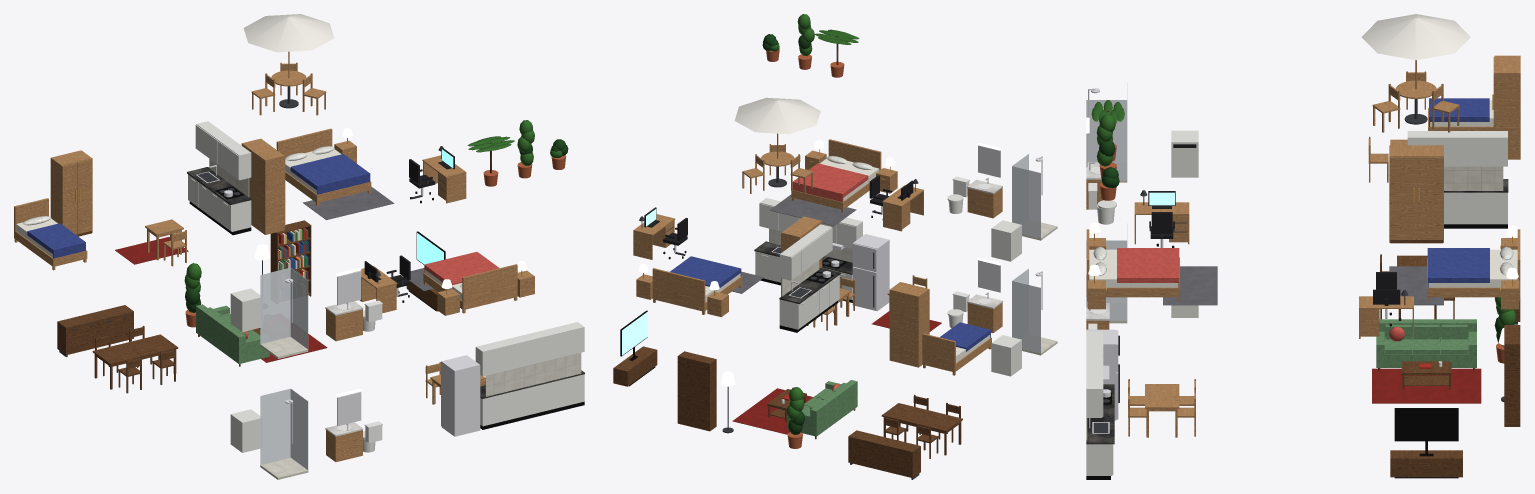
The model's file is i_bauhaus_house.gltf.
The picture shows the model from 3 angles, left to right: view 1: azimuth 30°, elevation 25°; view 2: azimuth 150°, elevation 25°; view 3: azimuth 270°, elevation 25°; orthographic projection. The views are drawn at different scales.
Parts seen in each view (by area): view 1: I_bauhaus_house; view 2: I_bauhaus_house; view 3: I_bauhaus_house.
Boxes of the visible parts, x1=… form: I_bauhaus_house: x1=14, y1=14, x2=584, y2=479; I_bauhaus_house: x1=613, y1=14, x2=1057, y2=479; I_bauhaus_house: x1=1086, y1=14, x2=1520, y2=479.
Bounding box in the file's own units: 11.33 × 9.05 × 9.52.
35 materials, 13 textured.
